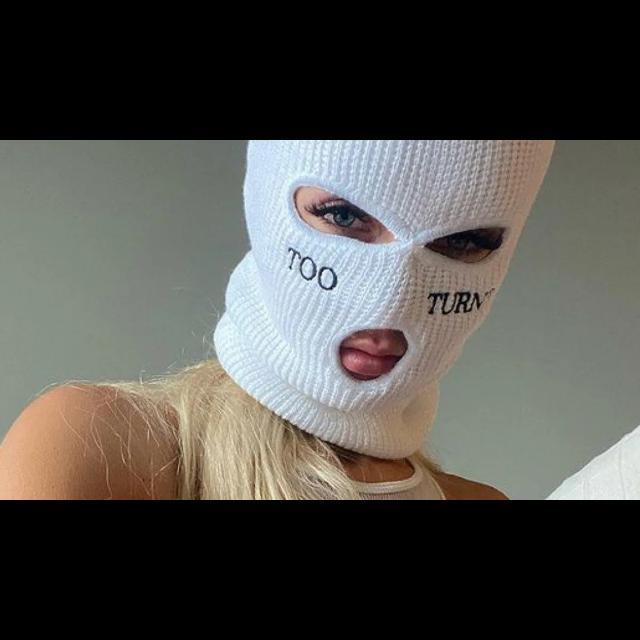criminal: (0, 140, 556, 498)
